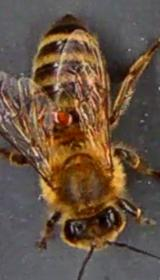varroa_mite: (46, 104, 76, 127)
